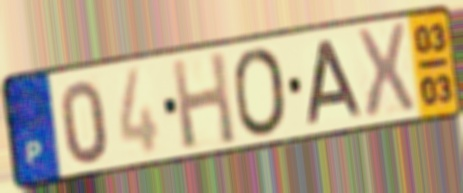0: (57, 74, 112, 167)
4: (117, 63, 166, 160)
A: (304, 38, 366, 127)
H: (168, 48, 239, 153)
O: (230, 44, 291, 139)
X: (352, 20, 419, 124)
